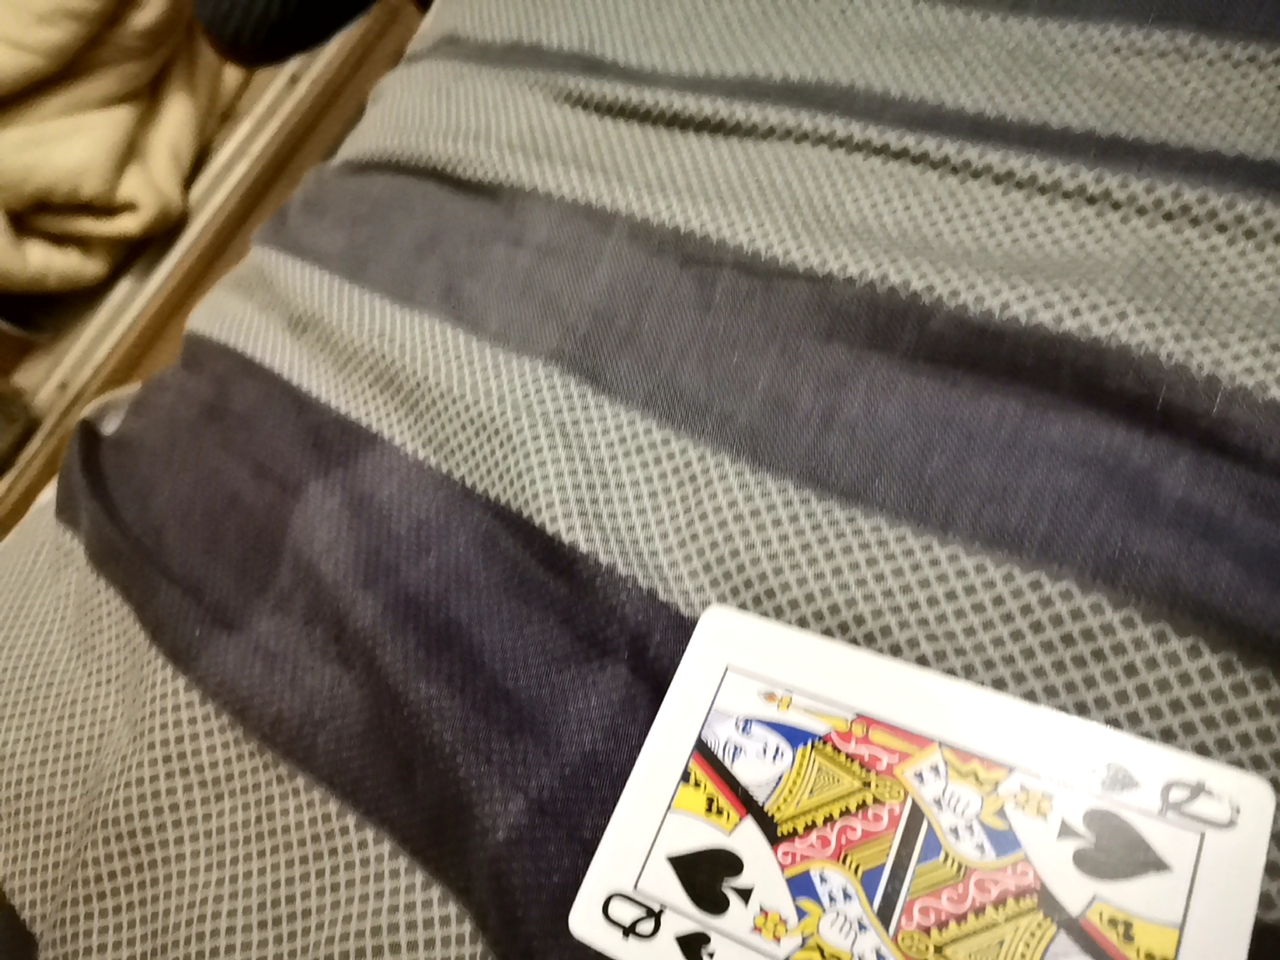ht q: (532, 599, 1265, 951)
